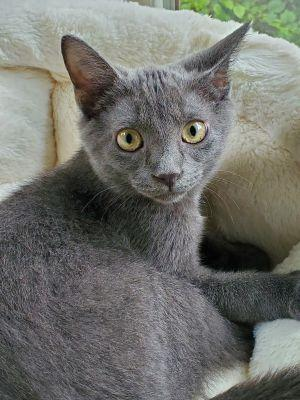rblue: (53, 11, 266, 231)
